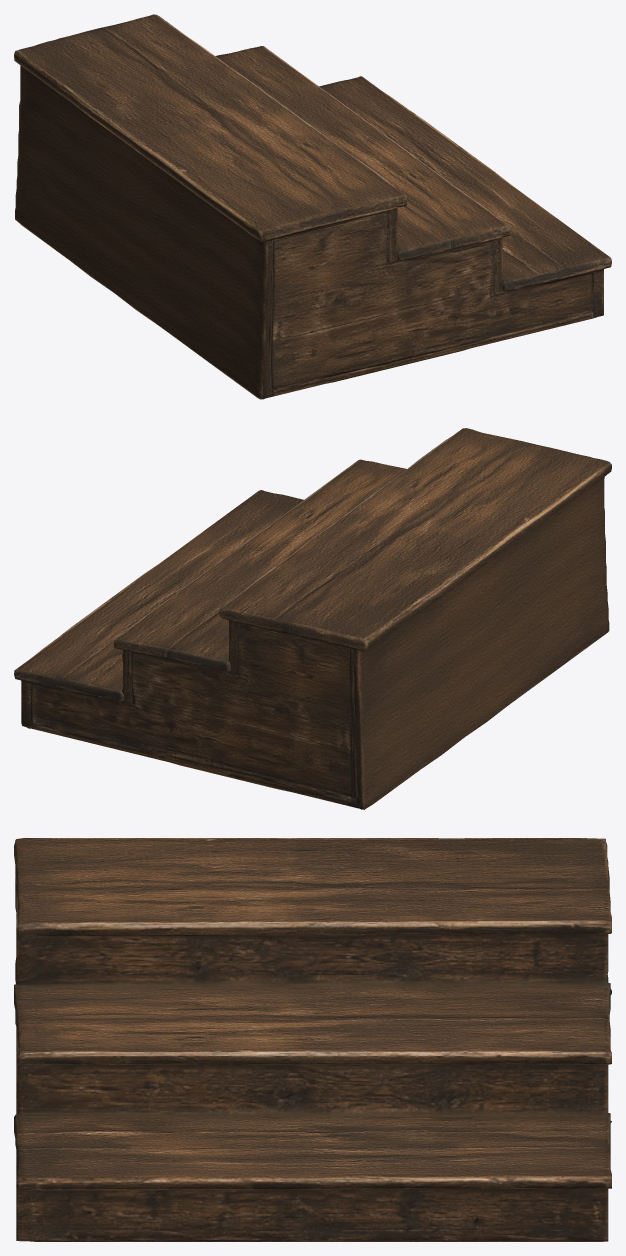
3 renders of one model, top to bottom at view 1: azimuth 30°, elevation 25°; view 2: azimuth 150°, elevation 25°; view 3: azimuth 270°, elevation 25°, orthographic. The views are drawn at different scales.
Parts seen in each view (by area): view 1: tripo_node_ba9d5d23-a18b-407c-81ad-485fc1317be7; view 2: tripo_node_ba9d5d23-a18b-407c-81ad-485fc1317be7; view 3: tripo_node_ba9d5d23-a18b-407c-81ad-485fc1317be7.
Boxes of the visible parts, x1,y1,x2,y2 form: tripo_node_ba9d5d23-a18b-407c-81ad-485fc1317be7: (14, 14, 611, 399); tripo_node_ba9d5d23-a18b-407c-81ad-485fc1317be7: (14, 428, 611, 809); tripo_node_ba9d5d23-a18b-407c-81ad-485fc1317be7: (14, 838, 611, 1241).
Size of the model in its own units: 0.8184 by 0.3809 by 0.998.
1 material, 1 textured.
